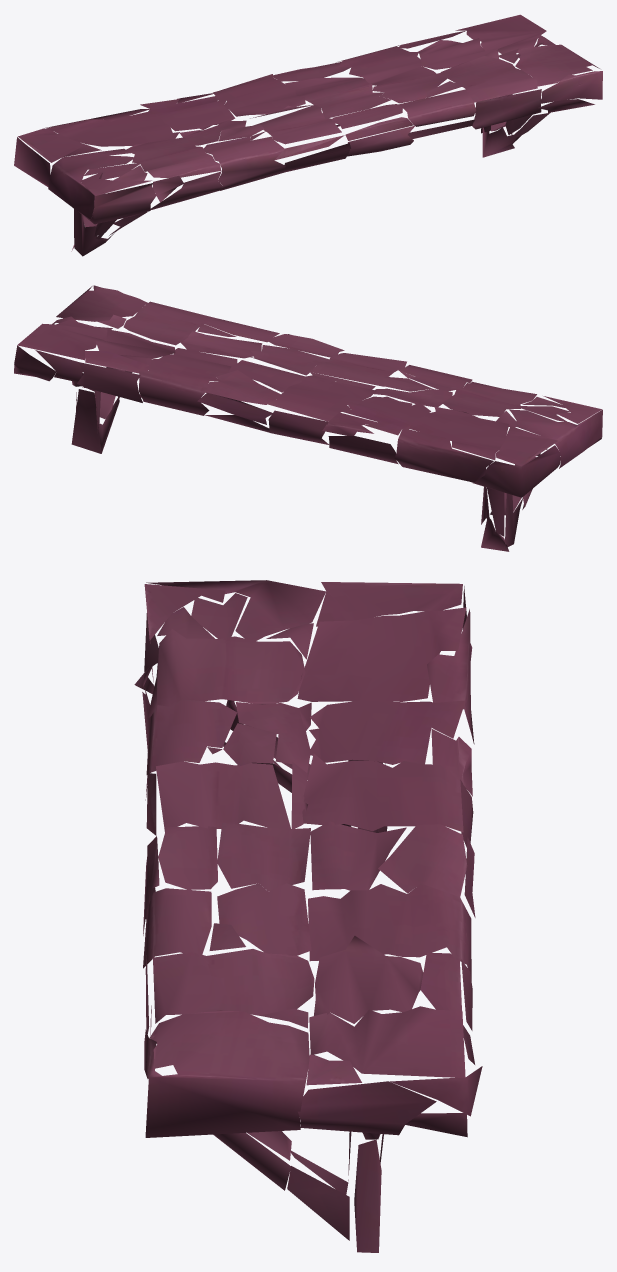
The model's file is wall_record_shelf.glb.
The picture shows the model from 3 angles, top to bottom: view 1: azimuth 30°, elevation 25°; view 2: azimuth 150°, elevation 25°; view 3: azimuth 270°, elevation 25°; orthographic projection. The views are drawn at different scales.
Visible parts, largest first — view 1: tripo_node_55c767fd-9946-49d0-a0c0-2370289b9a48; view 2: tripo_node_55c767fd-9946-49d0-a0c0-2370289b9a48; view 3: tripo_node_55c767fd-9946-49d0-a0c0-2370289b9a48.
Part boxes in pixels (x1,y1,x2,y2): tripo_node_55c767fd-9946-49d0-a0c0-2370289b9a48: (14, 14, 602, 256); tripo_node_55c767fd-9946-49d0-a0c0-2370289b9a48: (14, 285, 602, 551); tripo_node_55c767fd-9946-49d0-a0c0-2370289b9a48: (134, 580, 482, 1252).
Bounding box in the file's own units: 0.9 × 0.2022 × 0.2645.
1 material, 1 textured.
